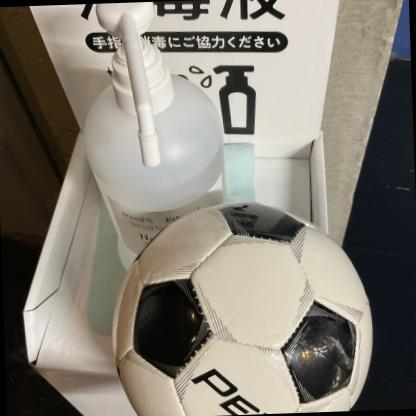ball: (105, 195, 387, 416), (107, 195, 388, 416)
